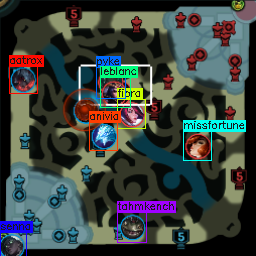aatrox: (12, 68, 34, 92)
anivia: (91, 124, 116, 148)
fiora: (119, 101, 144, 126)
leblanc: (102, 81, 126, 104)
missfortune: (185, 134, 210, 159)
pyke: (98, 70, 122, 93)
senna: (1, 235, 23, 256)
tahmkench: (120, 214, 144, 239)
